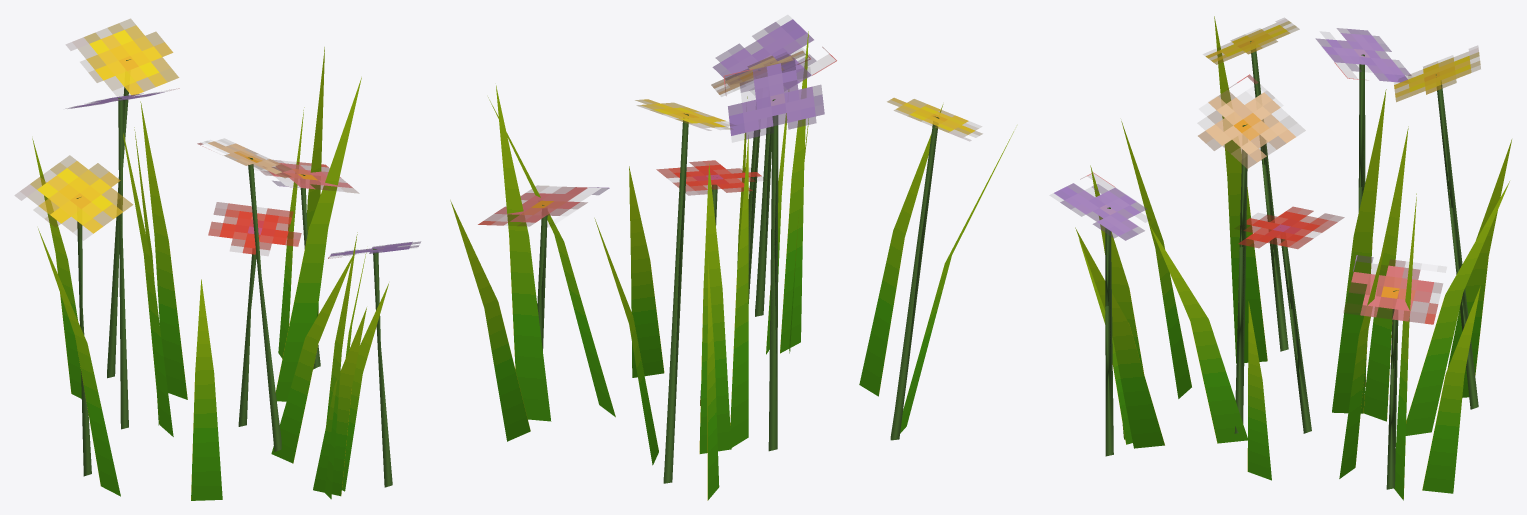
Rendered from wildflower_clump.glb.
3 views of the same model, side by side, from view 1: azimuth 30°, elevation 25°; view 2: azimuth 150°, elevation 25°; view 3: azimuth 270°, elevation 25° (orthographic). The views are drawn at different scales.
Parts seen in each view (by area): view 1: wildflower_clump_Grass_Blade, wildflower_clump_Bloom_Yellow, wildflower_clump_Stem_Green, wildflower_clump_Bloom_Red, wildflower_clump_Bloom_Pink, wildflower_clump_Bloom_Cream, wildflower_clump_Bloom_Violet; view 2: wildflower_clump_Grass_Blade, wildflower_clump_Stem_Green, wildflower_clump_Bloom_Violet, wildflower_clump_Bloom_Yellow, wildflower_clump_Bloom_Pink, wildflower_clump_Bloom_Red, wildflower_clump_Bloom_Cream; view 3: wildflower_clump_Grass_Blade, wildflower_clump_Stem_Green, wildflower_clump_Bloom_Violet, wildflower_clump_Bloom_Cream, wildflower_clump_Bloom_Pink, wildflower_clump_Bloom_Yellow, wildflower_clump_Bloom_Red.
Boxes of the visible parts, <box> form: wildflower_clump_Grass_Blade: <box>32,47,388,500</box>; wildflower_clump_Bloom_Yellow: <box>15,19,178,233</box>; wildflower_clump_Stem_Green: <box>76,59,392,487</box>; wildflower_clump_Bloom_Red: <box>208,202,301,255</box>; wildflower_clump_Bloom_Pink: <box>260,160,358,193</box>; wildflower_clump_Bloom_Cream: <box>197,139,291,178</box>; wildflower_clump_Bloom_Violet: <box>66,88,420,258</box>; wildflower_clump_Grass_Blade: <box>450,31,1013,500</box>; wildflower_clump_Stem_Green: <box>537,70,939,483</box>; wildflower_clump_Bloom_Violet: <box>712,19,836,139</box>; wildflower_clump_Bloom_Yellow: <box>635,97,982,140</box>; wildflower_clump_Bloom_Pink: <box>478,185,609,226</box>; wildflower_clump_Bloom_Red: <box>656,160,761,195</box>; wildflower_clump_Bloom_Cream: <box>711,50,810,96</box>; wildflower_clump_Grass_Blade: <box>1075,16,1511,500</box>; wildflower_clump_Stem_Green: <box>1105,41,1478,489</box>; wildflower_clump_Bloom_Violet: <box>1053,28,1411,240</box>; wildflower_clump_Bloom_Cream: <box>1198,74,1304,168</box>; wildflower_clump_Bloom_Pink: <box>1343,255,1442,324</box>; wildflower_clump_Bloom_Yellow: <box>1205,18,1480,101</box>; wildflower_clump_Bloom_Red: <box>1235,206,1344,248</box>.
Bounding box in the file's own units: 1.04 × 0.8731 × 1.01.
7 materials, 6 textured.
